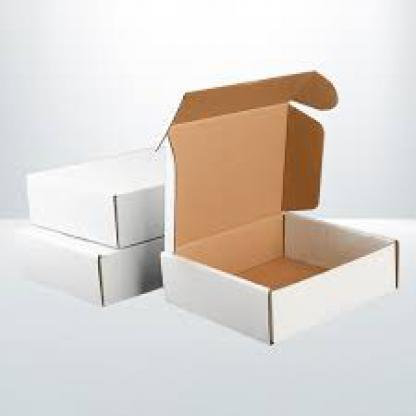paquete: (161, 65, 407, 342), (15, 126, 198, 250), (9, 205, 189, 316)
